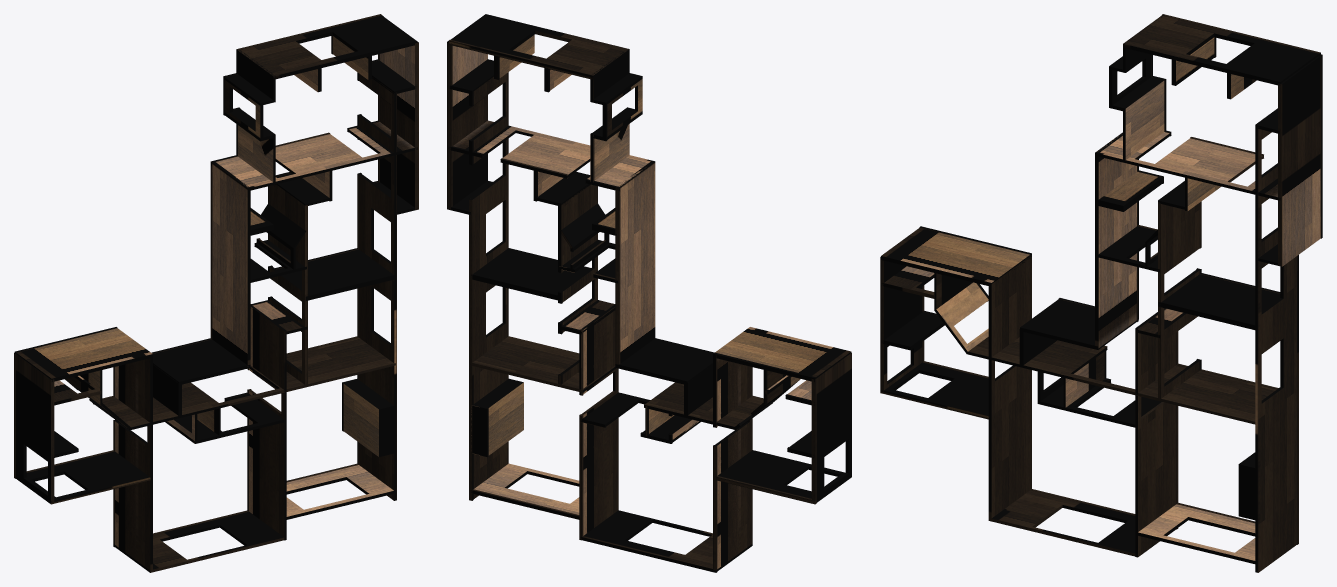
Rendered from wall_vm.obj.
3 views of the same model, side by side, from view 1: azimuth 30°, elevation 25°; view 2: azimuth 150°, elevation 25°; view 3: azimuth 330°, elevation 25° (orthographic). The views are drawn at different scales.
Size of the model in its own units: 13.89 by 16.85 by 2.4.
